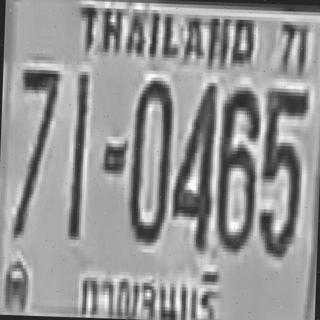N00: (127, 78, 173, 241)
N01: (68, 71, 88, 237), (68, 69, 87, 225)
N04: (169, 76, 216, 246)
N05: (256, 84, 306, 254)
N06: (214, 84, 260, 251)
N07: (12, 66, 59, 236)
P17: (70, 256, 226, 320)
